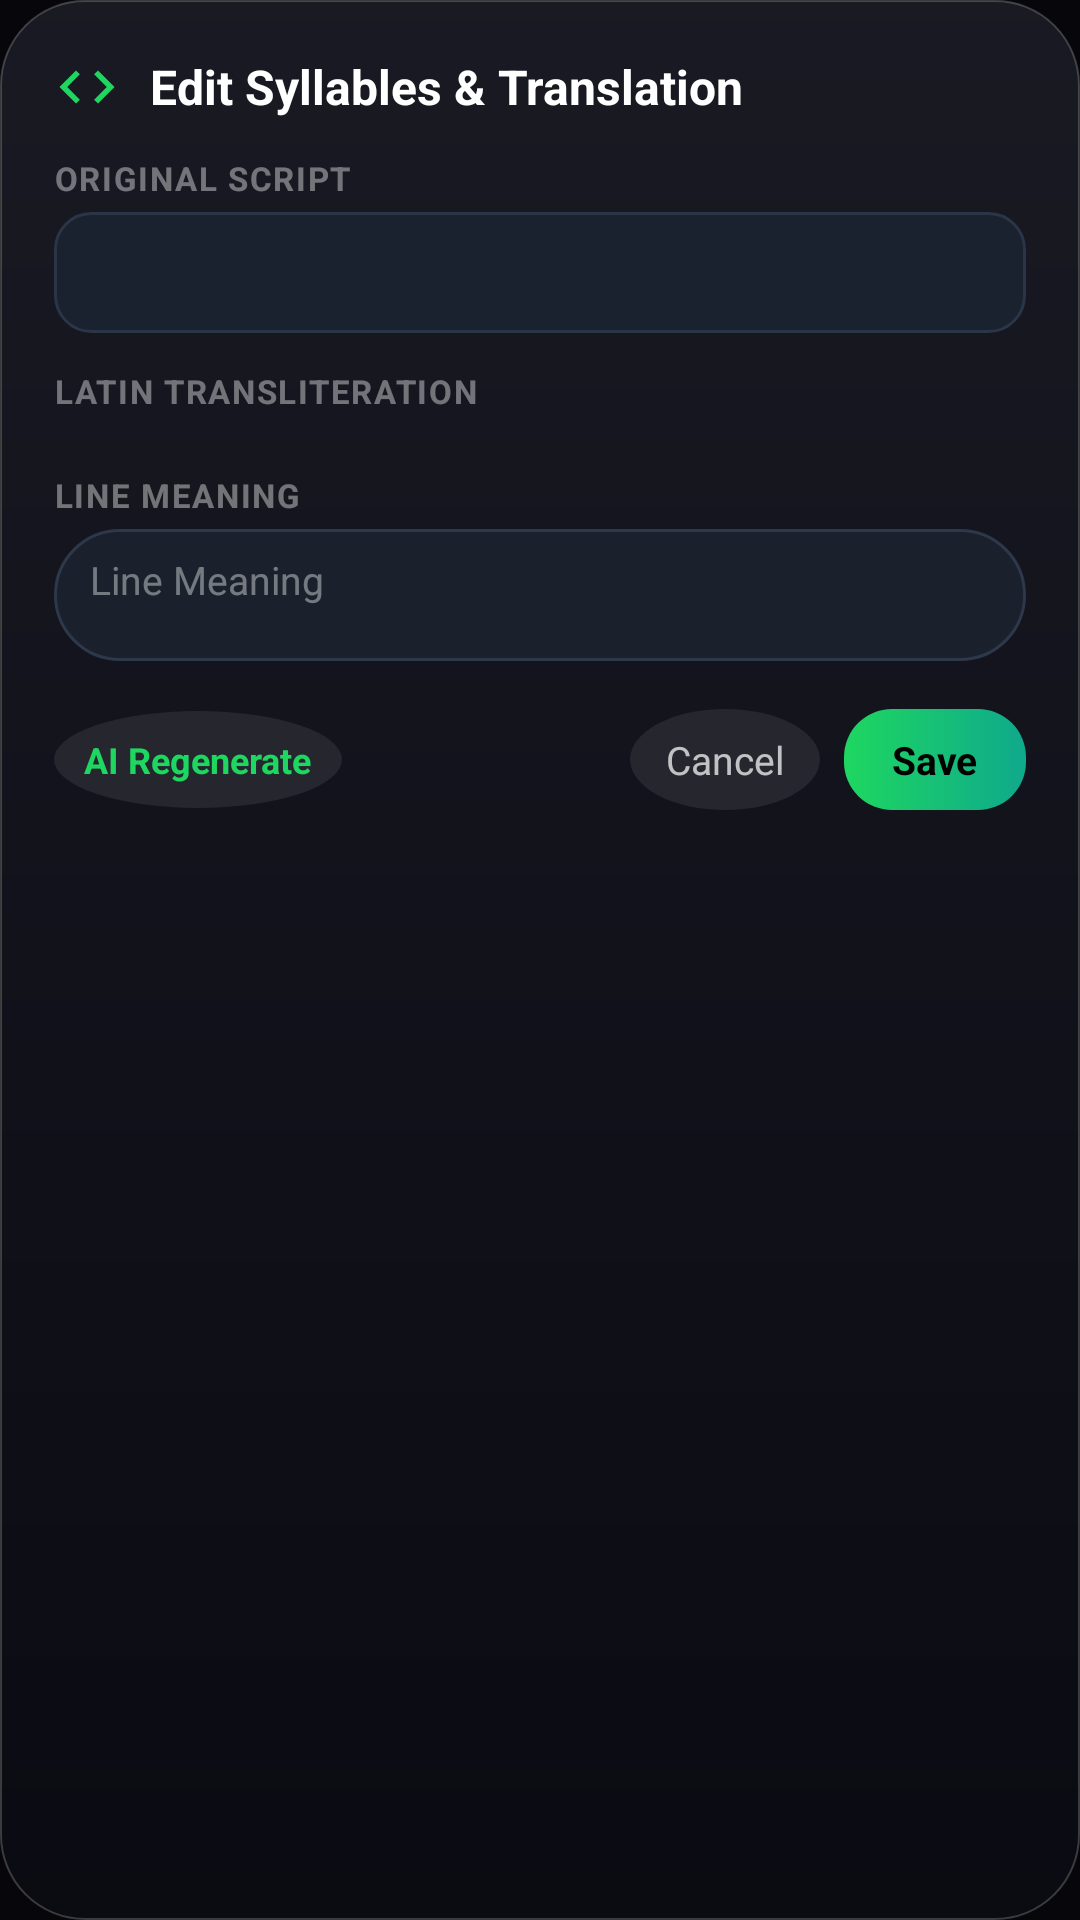

Point at icon controls on the screen. Image size 1080*1920, points as (x=x, y=y).
code: (x=87, y=87)
